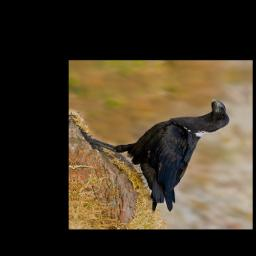Crow: (78, 98, 233, 213)
